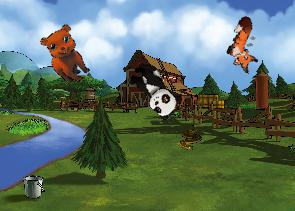bear: (33, 19, 102, 89)
fox: (219, 14, 272, 75)
panda: (122, 57, 186, 122)
